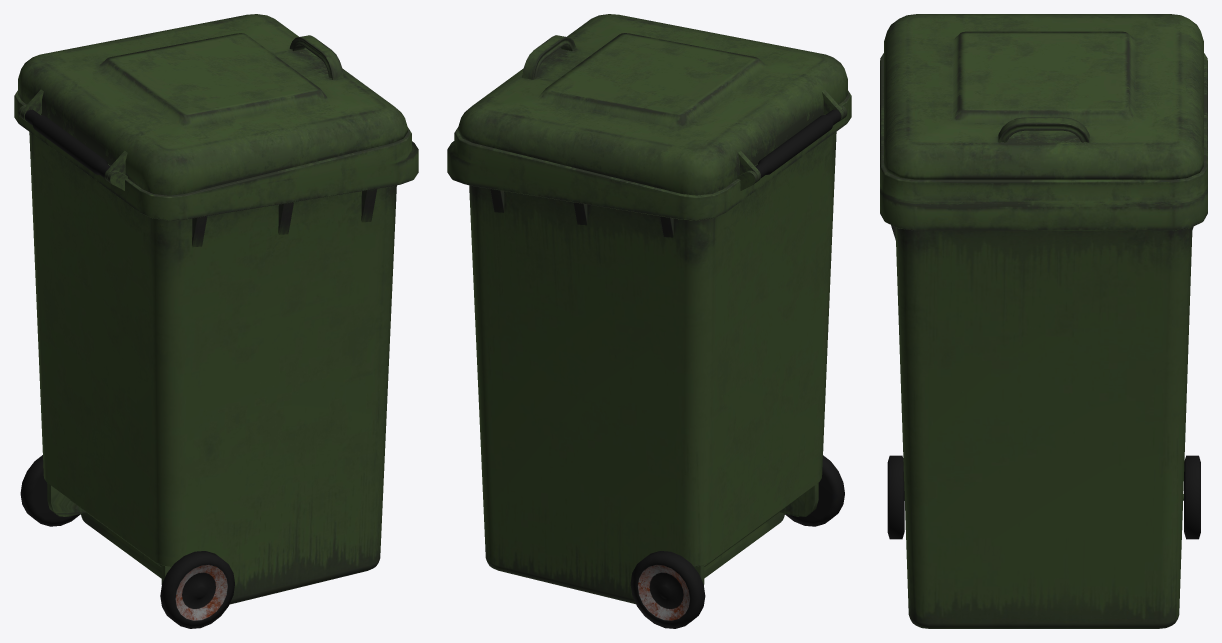
File: trash.gltf
3 renders of one model, left to right at view 1: azimuth 30°, elevation 25°; view 2: azimuth 150°, elevation 25°; view 3: azimuth 270°, elevation 25°, orthographic. The views are drawn at different scales.
Visible parts, largest first — view 1: bak_low, krichka_low, koleso_low1, petl_low, koleso_low, polySurface6, ruhka_low, oci_low; view 2: bak_low, krichka_low, koleso_low, petl_low, koleso_low1, ruhka_low, oci_low1; view 3: bak_low, krichka_low, koleso_low1, koleso_low, ruhka_low.
Part boxes in pixels (box(x1,y1,x2,y2)): bak_low: box(14, 90, 418, 604); krichka_low: box(18, 14, 407, 195); koleso_low1: box(160, 551, 234, 628); petl_low: box(24, 109, 110, 177); koleso_low: box(20, 455, 80, 526); polySurface6: box(192, 189, 377, 247); ruhka_low: box(289, 35, 343, 79); oci_low: box(47, 483, 86, 516); bak_low: box(447, 90, 851, 604); krichka_low: box(458, 14, 847, 195); koleso_low: box(630, 551, 705, 628); petl_low: box(755, 109, 841, 177); koleso_low1: box(785, 455, 844, 526); ruhka_low: box(522, 35, 576, 79); oci_low1: box(779, 483, 818, 516); bak_low: box(880, 53, 1207, 628); krichka_low: box(884, 14, 1203, 179); koleso_low1: box(887, 455, 904, 539); koleso_low: box(1184, 455, 1200, 539); ruhka_low: box(998, 117, 1089, 142).
Bounding box in the file's own units: 1.26 × 2 × 1.16.
Materials: 1 (1 with a texture image).
